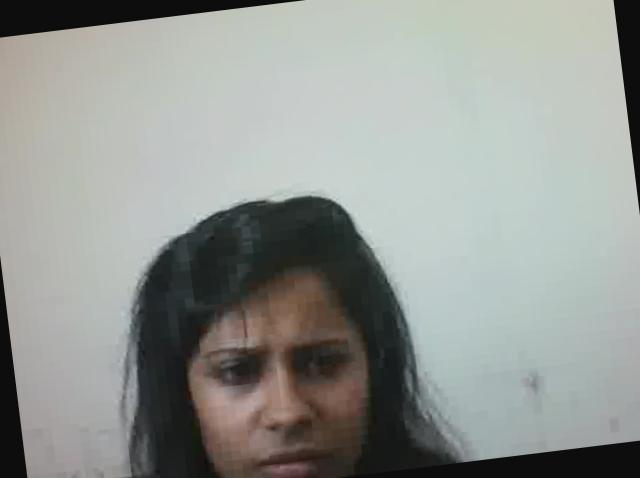bingung: (185, 267, 392, 478)
